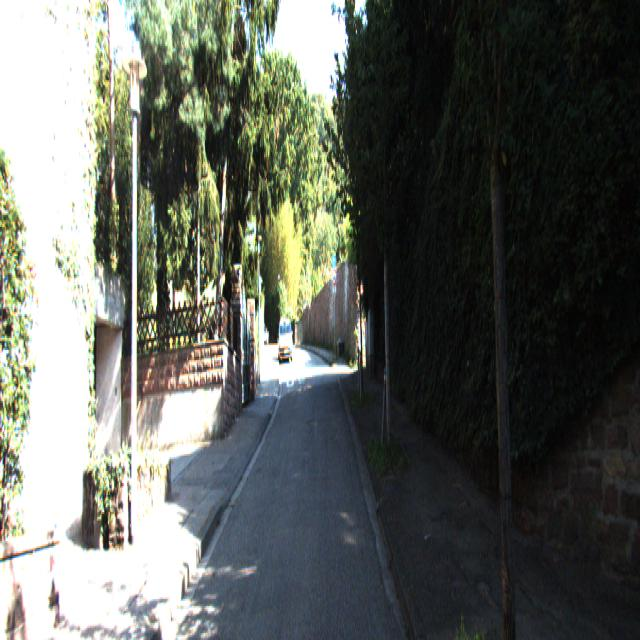Car: (278, 317, 293, 367)
